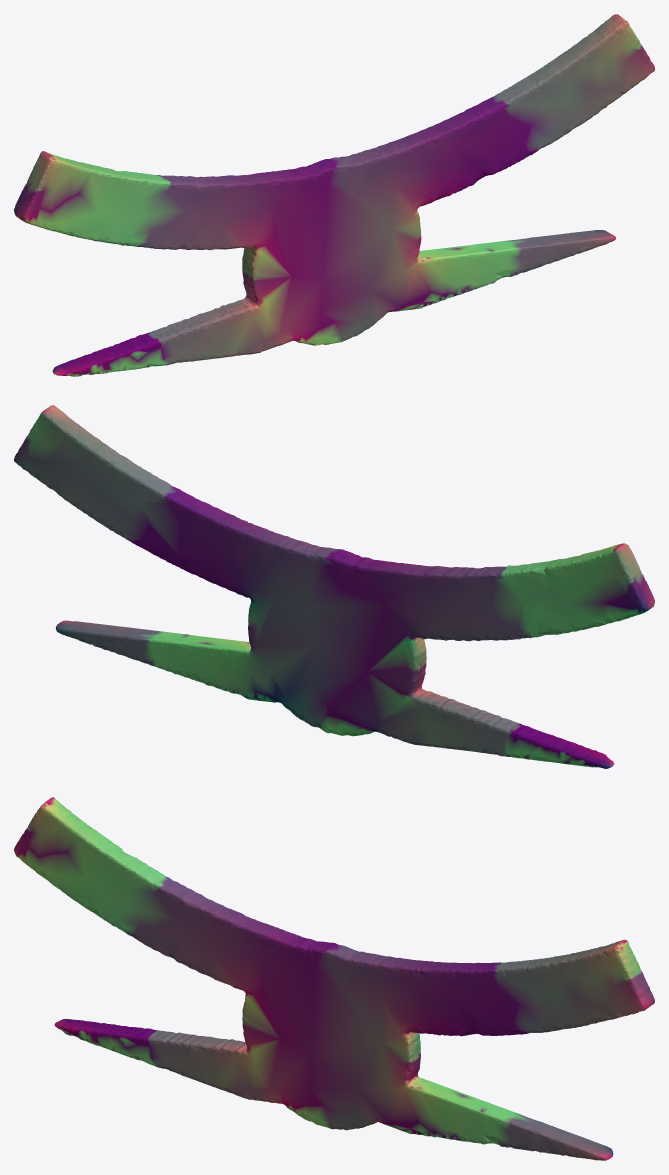
File: scissor-10.off.obj
3 views of the same model, one above another, from view 1: azimuth 30°, elevation 25°; view 2: azimuth 150°, elevation 25°; view 3: azimuth 330°, elevation 25° (orthographic).
Size of the model in its own units: 1.77 by 0.6799 by 0.059.
